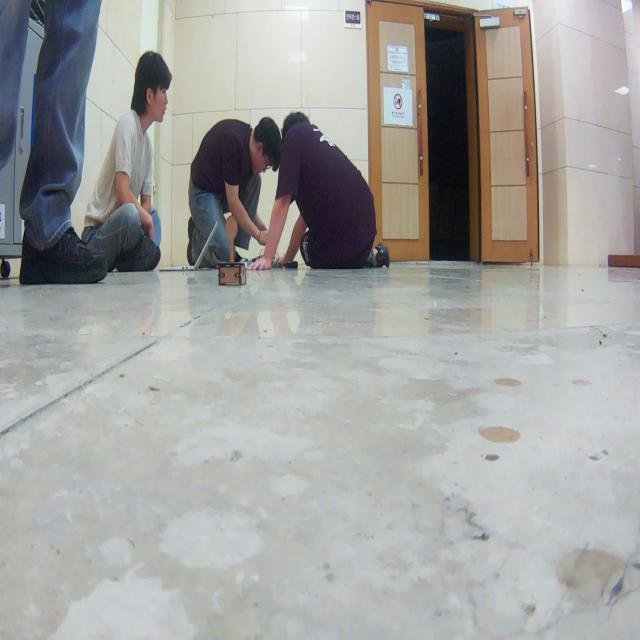target: (218, 216, 246, 286)
